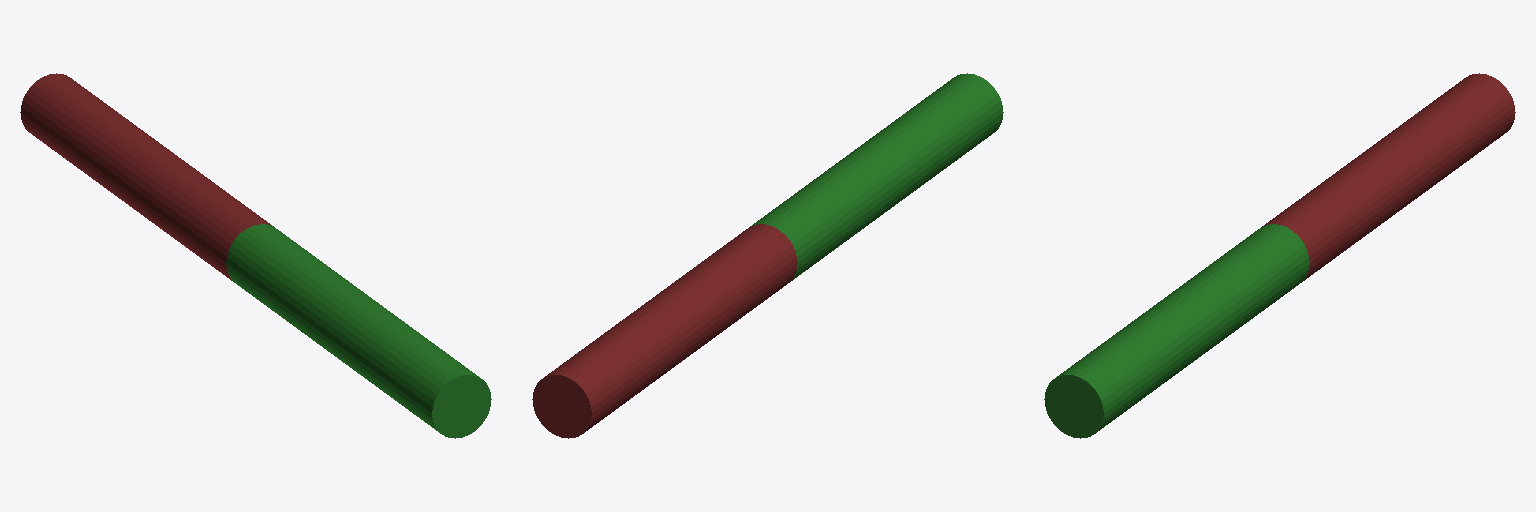
The robot description file, URDF, robot "robot":
<?xml version="1.0" encoding="utf-8"?>
<!-- =================================================================================== -->
<!-- |    This document was autogenerated by xacro from goal_indicator.urdf.xacro      | -->
<!-- |    EDITING THIS FILE BY HAND IS NOT RECOMMENDED                                 | -->
<!-- =================================================================================== -->
<robot>
  <!--xacro:property name="pi" value="3.14159"/-->
  <material name="front_material">
    <color rgba="0.5 0.2 0.2 1"/>
  </material>
  <material name="rear_material">
    <color rgba="0.2 0.5 0.2 1"/>
  </material>
  <link name="base"/>
  <link name="front">
    <visual>
      <origin rpy="1.57079632679 0 0" xyz="0 0.06 0"/>
      <geometry>
        <cylinder length="0.12" radius="0.01"/>
      </geometry>
      <material name="front_material"/>
    </visual>
    <collision>
      <origin rpy="1.57079632679 0 0" xyz="0 0.06 0"/>
      <geometry>
        <cylinder length="0.12" radius="0.01"/>
      </geometry>
    </collision>
    <inertial>
      <density value="1000.0"/>
    </inertial>
  </link>
  <link name="rear">
    <visual>
      <origin rpy="1.57079632679 0 0" xyz="0 -0.06 0"/>
      <geometry>
        <cylinder length="0.12" radius="0.01"/>
      </geometry>
      <material name="rear_material"/>
    </visual>
    <collision>
      <origin rpy="1.57079632679 0 0" xyz="0 -0.06 0"/>
      <geometry>
        <cylinder length="0.12" radius="0.01"/>
      </geometry>
    </collision>
    <inertial>
      <density value="1000.0"/>
    </inertial>
  </link>
  <joint name="front_joint" type="fixed">
    <parent link="base"/>
    <child link="front"/>
  </joint>
  <joint name="rear_joint" type="fixed">
    <parent link="base"/>
    <child link="rear"/>
  </joint>
</robot>

--- Facts derived from the render (not from the file) ---
Views: 3 orthographic renders of the robot side by side, from view 1: azimuth 30°, elevation 25°; view 2: azimuth 150°, elevation 25°; view 3: azimuth 330°, elevation 25°.
Model robot with 3 links and 2 joints (2 fixed), rooted at base, posed all joints at 0.
Visible links, largest first — view 1: rear, front; view 2: front, rear; view 3: rear, front.
Link boxes in pixels (box(x1,y1,x2,y2)): rear: box(226, 224, 491, 438); front: box(20, 73, 273, 280); front: box(532, 224, 797, 438); rear: box(750, 73, 1003, 280); rear: box(1044, 224, 1309, 438); front: box(1262, 73, 1515, 280).
Bounding box of the posed robot: 0.02 × 0.24 × 0.02 m (x, y, z).
Geometry: primitives only (box / cylinder / sphere), no mesh files.